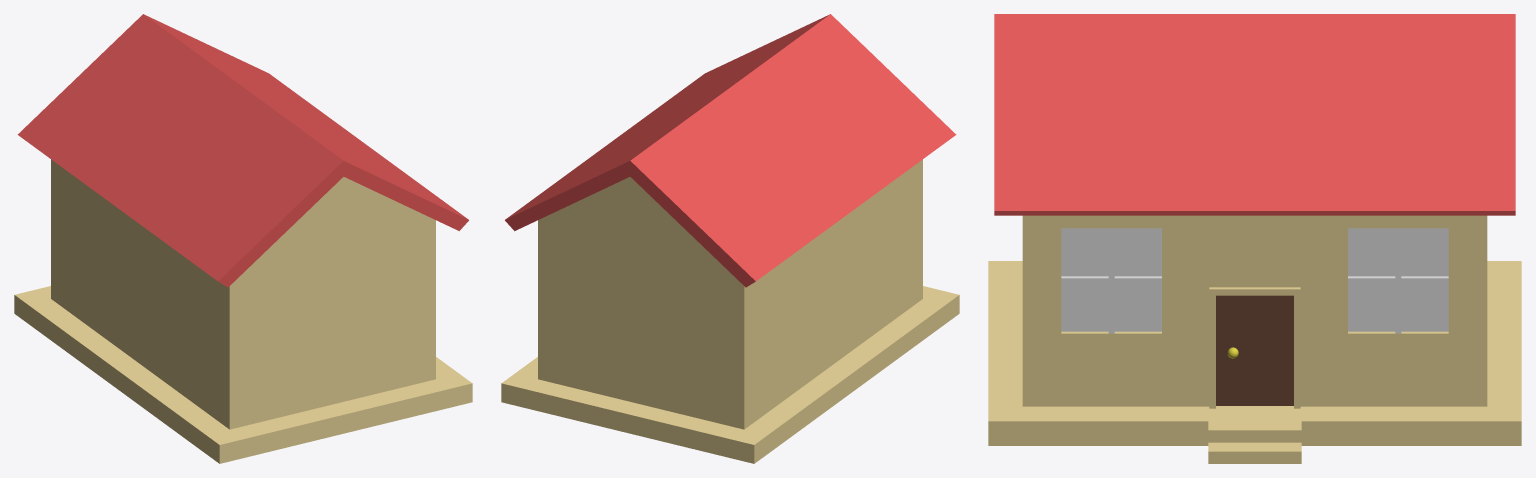
File: House.fbx
3 views of the same model, side by side, from view 1: azimuth 30°, elevation 25°; view 2: azimuth 150°, elevation 25°; view 3: azimuth 270°, elevation 25° (orthographic). The views are drawn at different scales.
Parts seen in each view (by area): view 1: HouseMain, Roof; view 2: HouseMain, Roof; view 3: Roof, HouseMain, RightWindow, LeftWindow, Door, Cube.001, HouseMain.001, HouseMain.002, LeftWindowStickH, RightWindowStickH, RightWindowStickV, LeftWindowStickV.
Part boxes in pixels (left/top/right/bottom): HouseMain: left=14, top=159, right=472, bottom=463; Roof: left=17, top=14, right=468, bottom=287; HouseMain: left=501, top=159, right=959, bottom=463; Roof: left=505, top=14, right=956, bottom=287; Roof: left=994, top=14, right=1515, bottom=215; HouseMain: left=988, top=215, right=1521, bottom=445; RightWindow: left=1348, top=228, right=1448, bottom=331; LeftWindow: left=1061, top=228, right=1161, bottom=331; Door: left=1216, top=295, right=1293, bottom=405; Cube.001: left=1209, top=287, right=1300, bottom=408; HouseMain.001: left=1208, top=421, right=1301, bottom=442; HouseMain.002: left=1208, top=442, right=1301, bottom=463; LeftWindowStickH: left=1061, top=276, right=1161, bottom=283; RightWindowStickH: left=1348, top=276, right=1448, bottom=283; RightWindowStickV: left=1395, top=228, right=1401, bottom=333; LeftWindowStickV: left=1108, top=228, right=1114, bottom=333.
Bounding box in the file's own units: 689 × 501 × 545.
